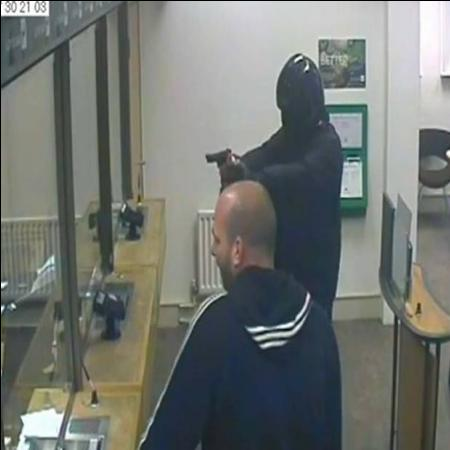Pistol: (202, 138, 232, 176)
